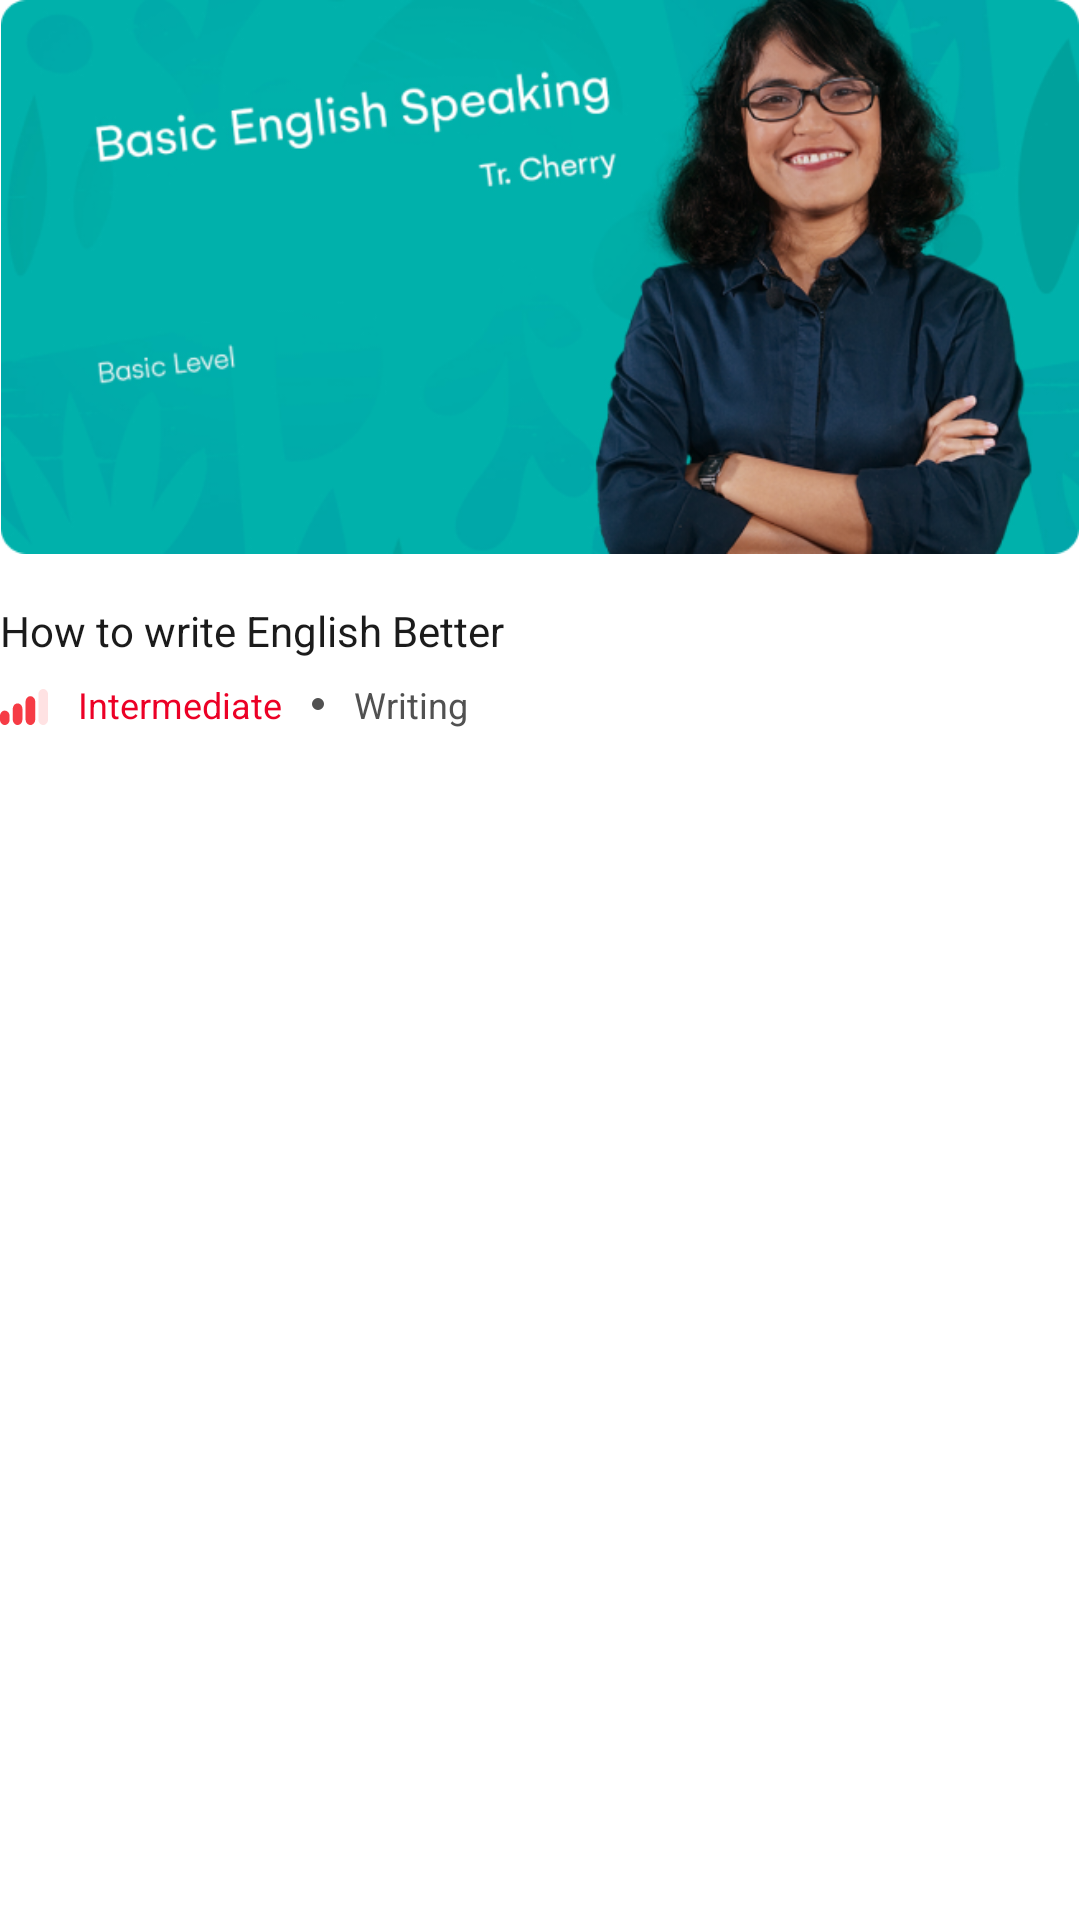

Named icons in this screenshot (1080*1920) and their centers, point (x, y):
connection: point (24, 707)
